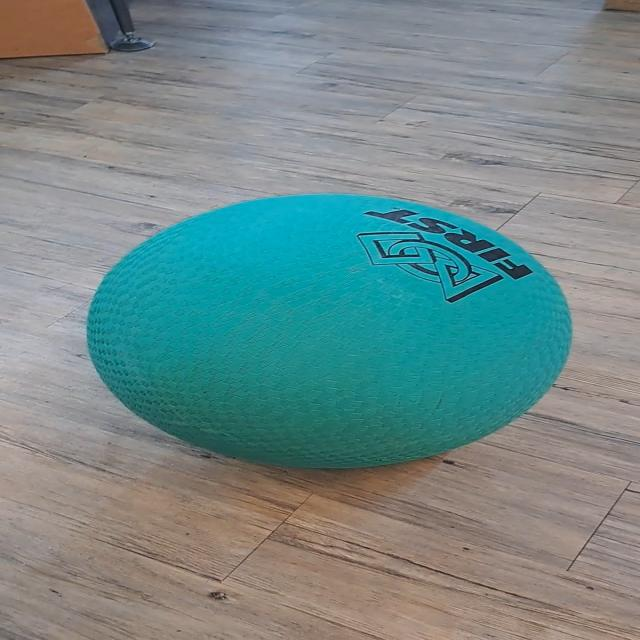ALGAE: (84, 191, 574, 471)
